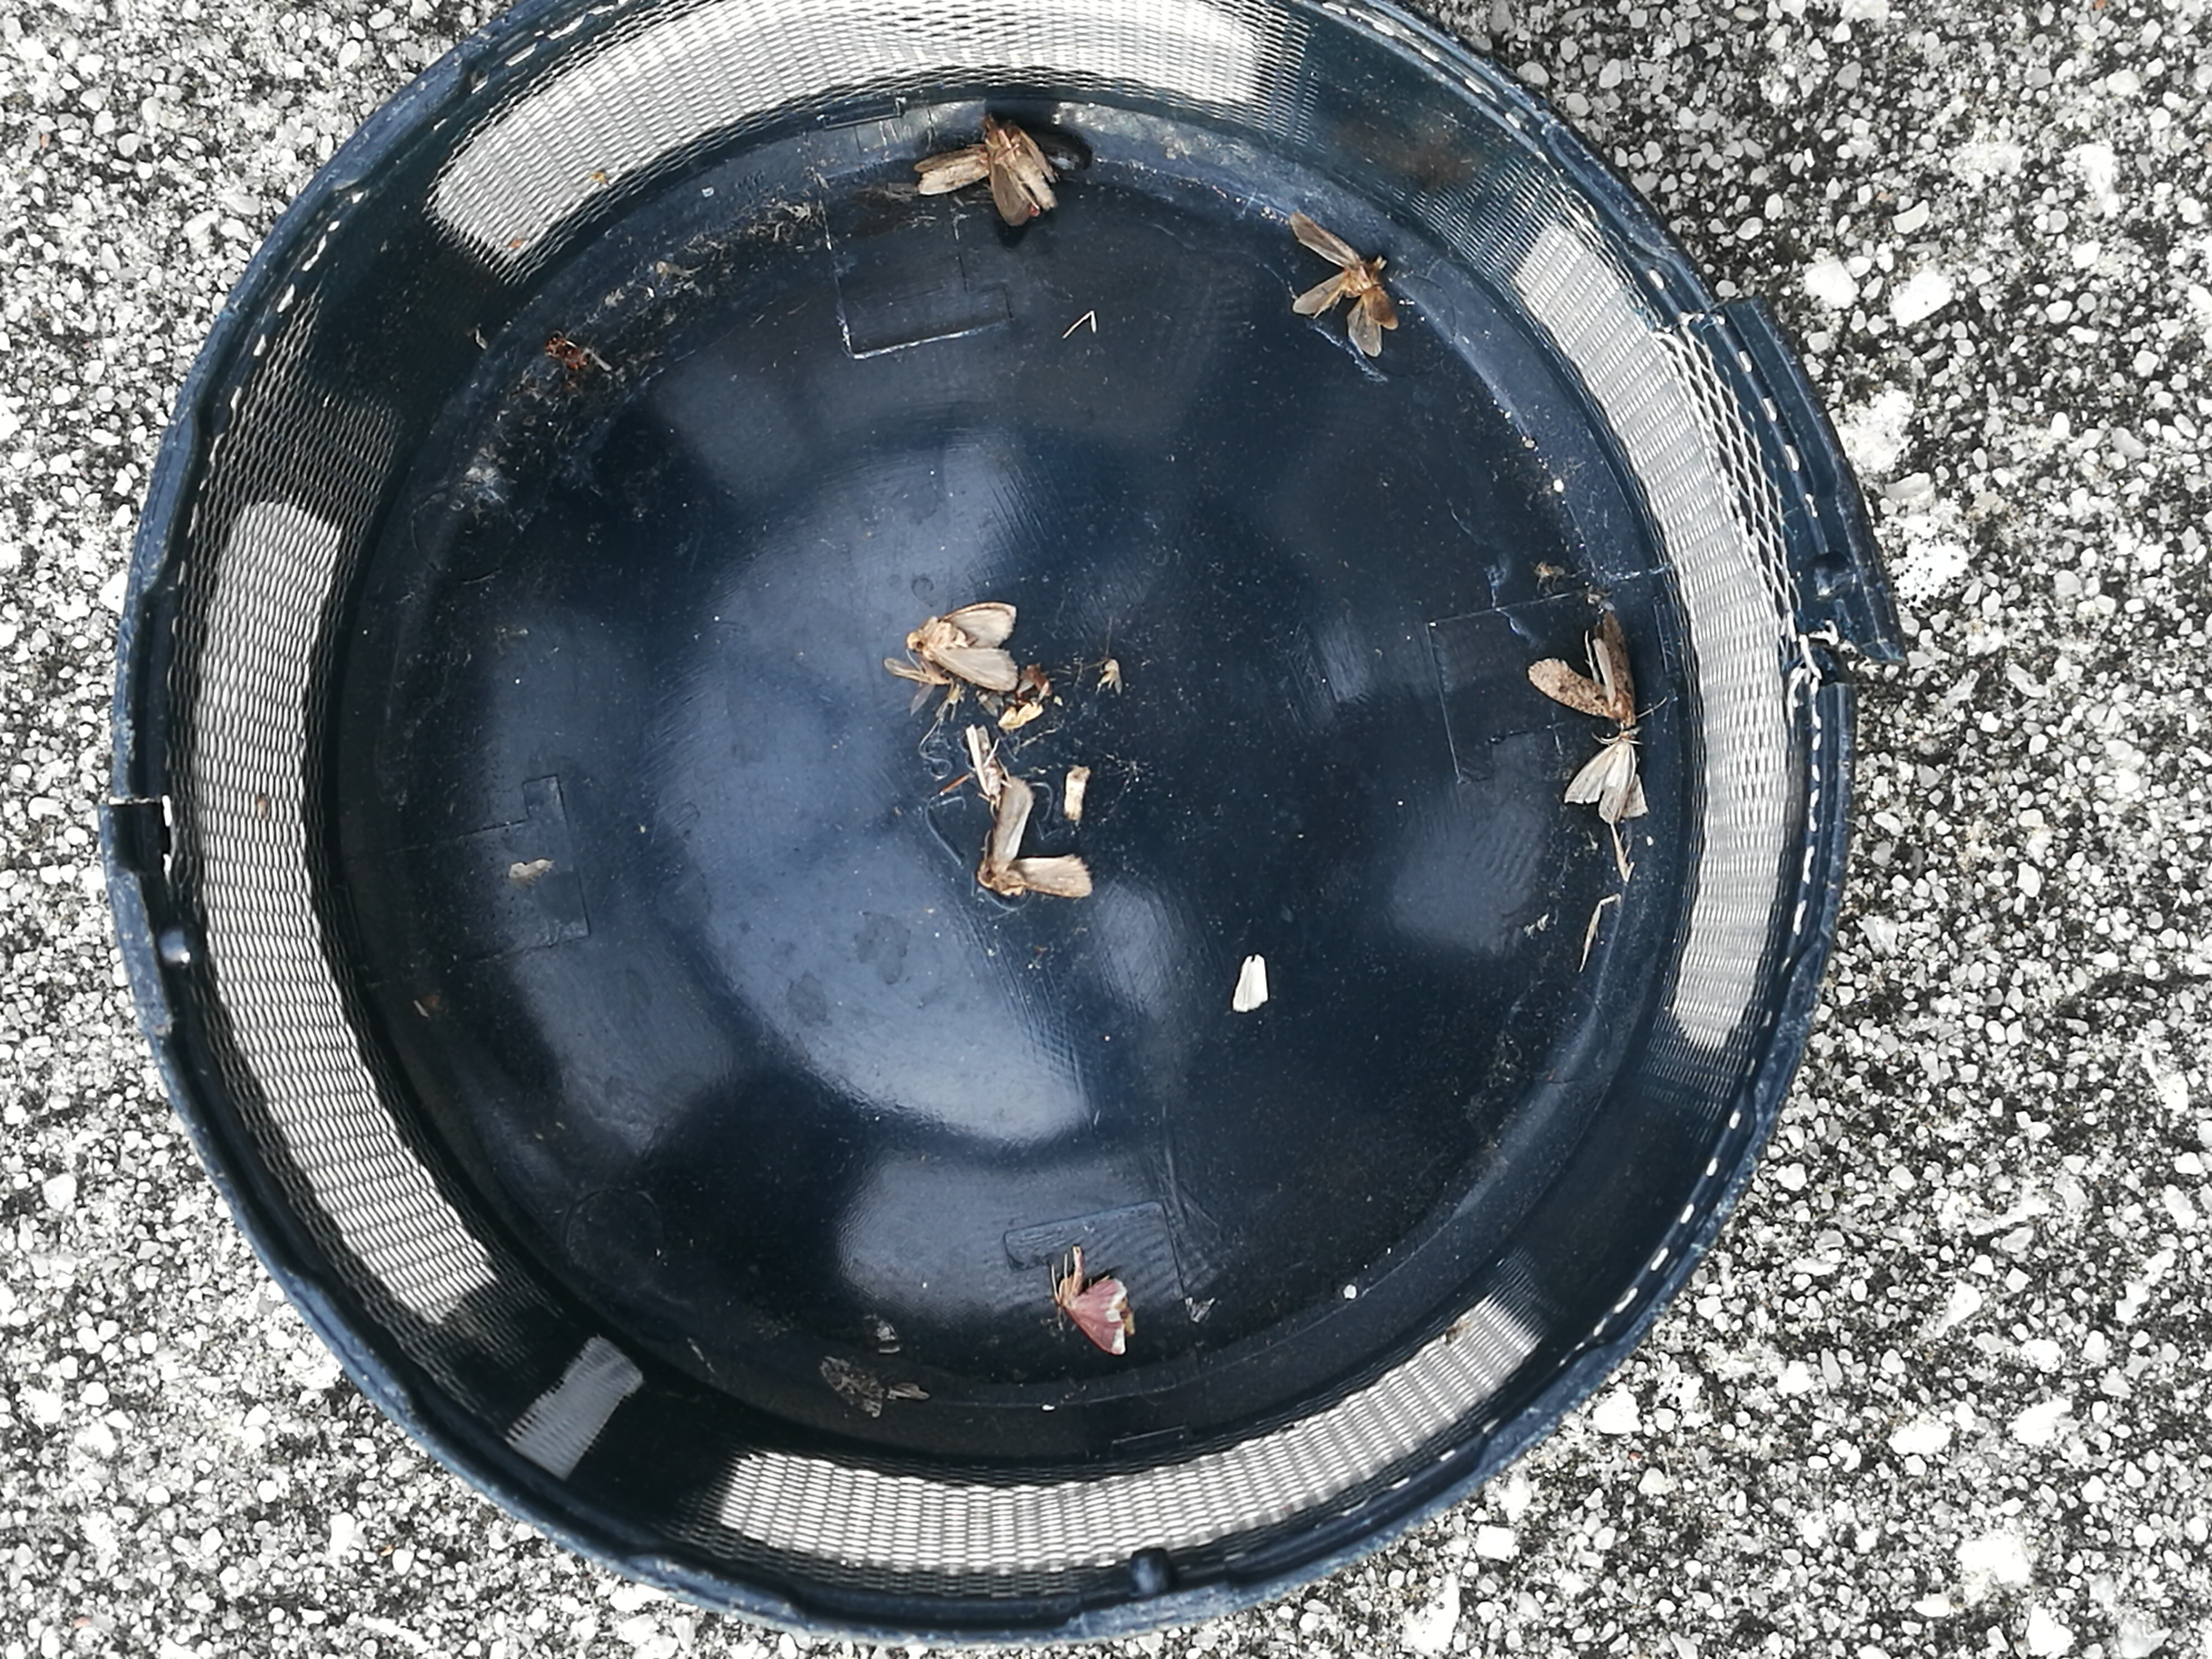mosquito: (916, 148, 991, 193), (968, 725, 998, 798)
moth: (1289, 213, 1400, 359), (979, 781, 1096, 896), (1527, 610, 1635, 725), (909, 603, 1017, 688), (988, 113, 1054, 228), (1569, 739, 1649, 826), (1061, 1249, 1127, 1354)
